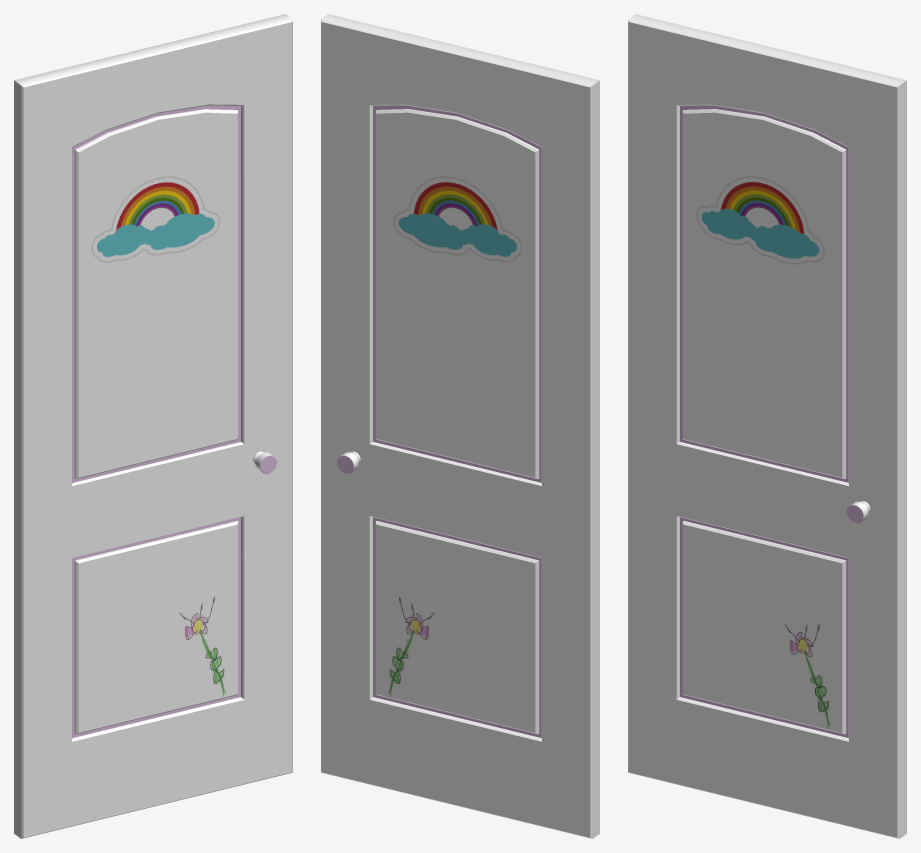
File: Bedroom_Door.FBX
3 views of the same model, side by side, from view 1: azimuth 30°, elevation 25°; view 2: azimuth 150°, elevation 25°; view 3: azimuth 330°, elevation 25° (orthographic).
Parts seen in each view (by area): view 1: Bedroom_Door; view 2: Bedroom_Door; view 3: Bedroom_Door.
Boxes of the visible parts, bbox=[...] form: Bedroom_Door: bbox=[14, 14, 292, 838]; Bedroom_Door: bbox=[321, 14, 599, 838]; Bedroom_Door: bbox=[628, 14, 906, 838].
Size of the model in its own units: 76.2 by 202 by 13.29.
1 material, 1 textured.
